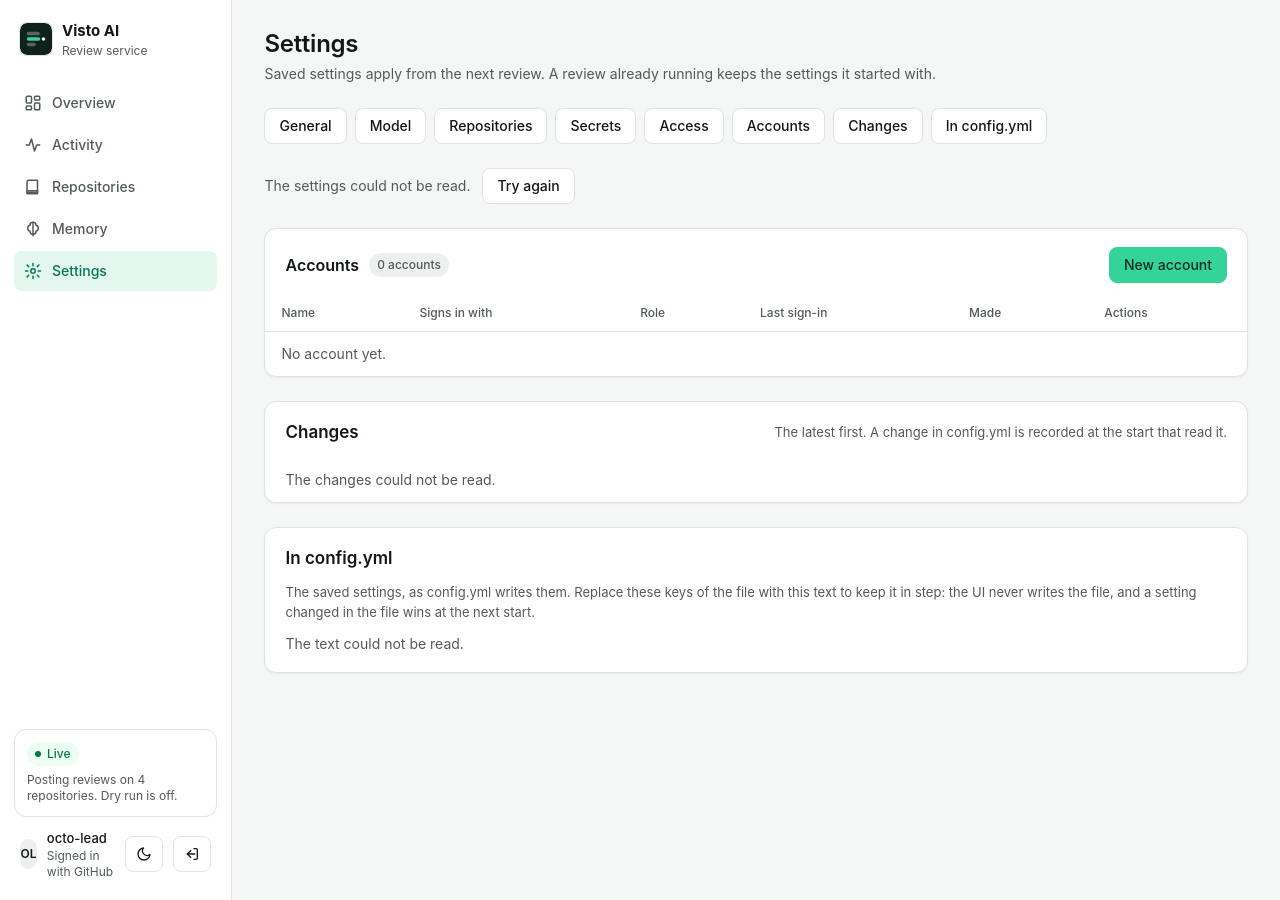
it: sign out sends the token for changes and shows the sign-in page
Note: A failure leaves the person signed in, where they were.
Click the button named "Sign out": (192, 854) [174,836,212,872]
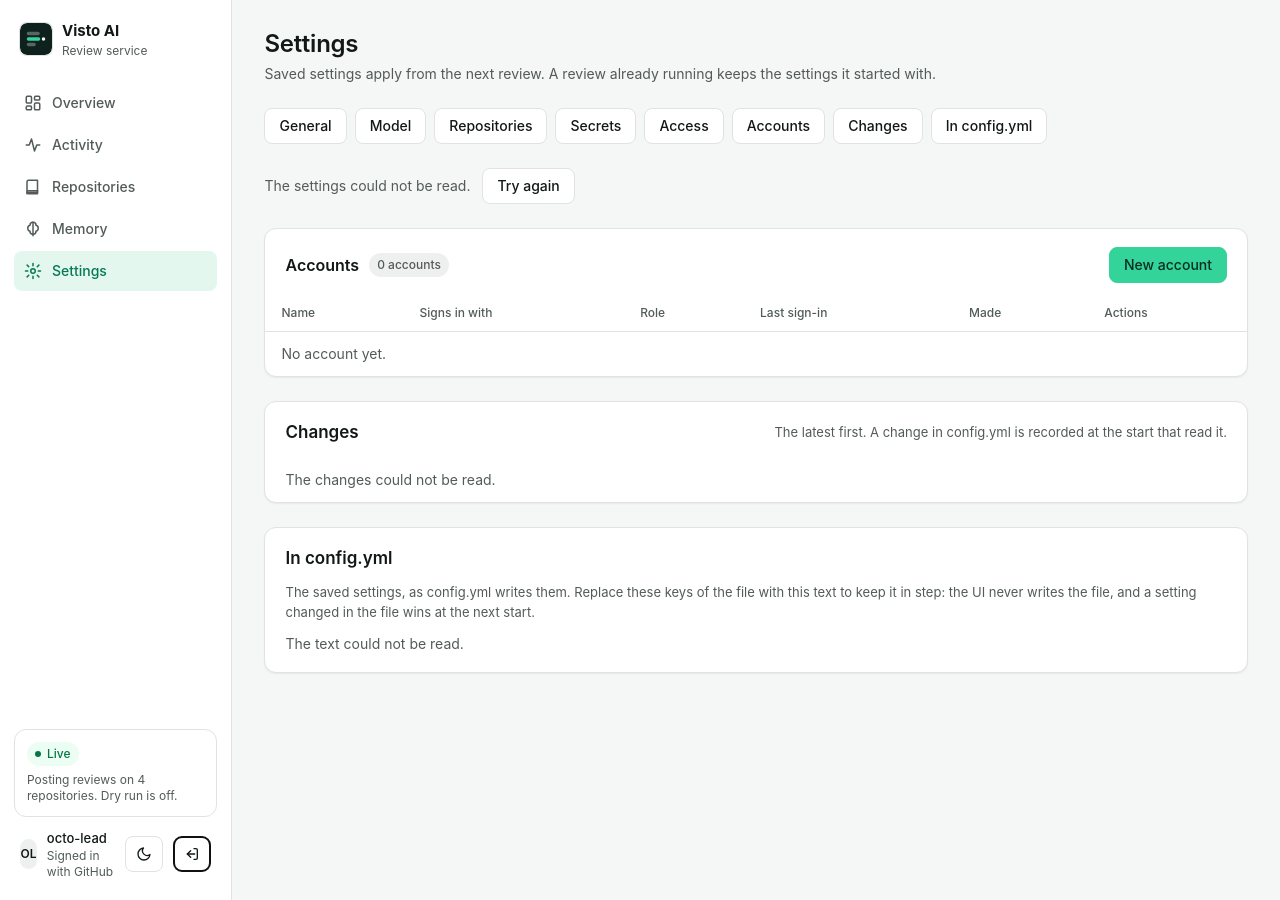
Check: the navigation bar named "Main" is shown, box [14,82,218,290]
Click the button named "Sign out": (192, 854) [174,836,212,872]
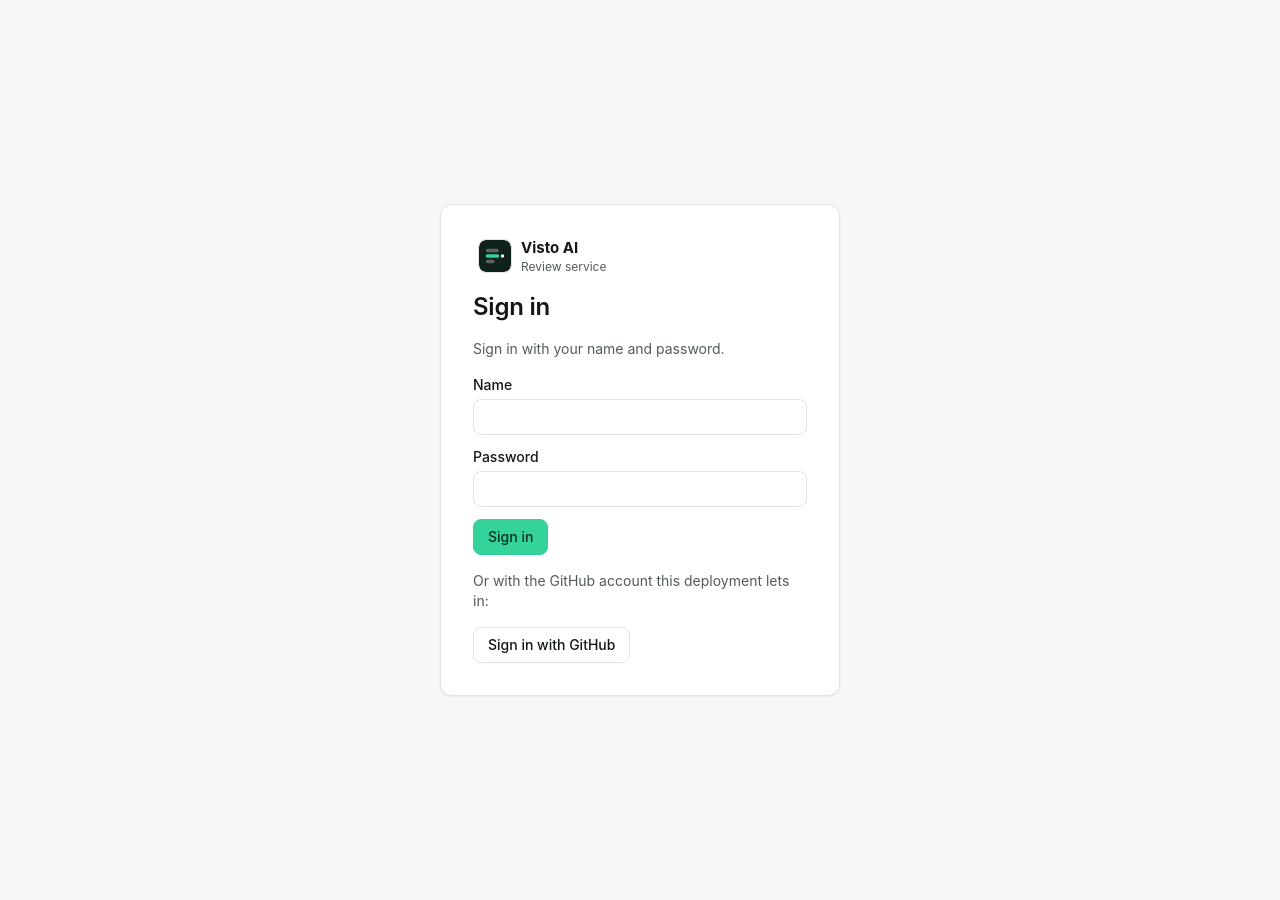
Check: the navigation bar "Main" is gone
